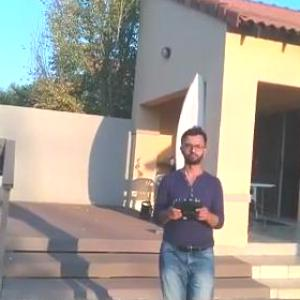follow: (149, 120, 228, 299)
